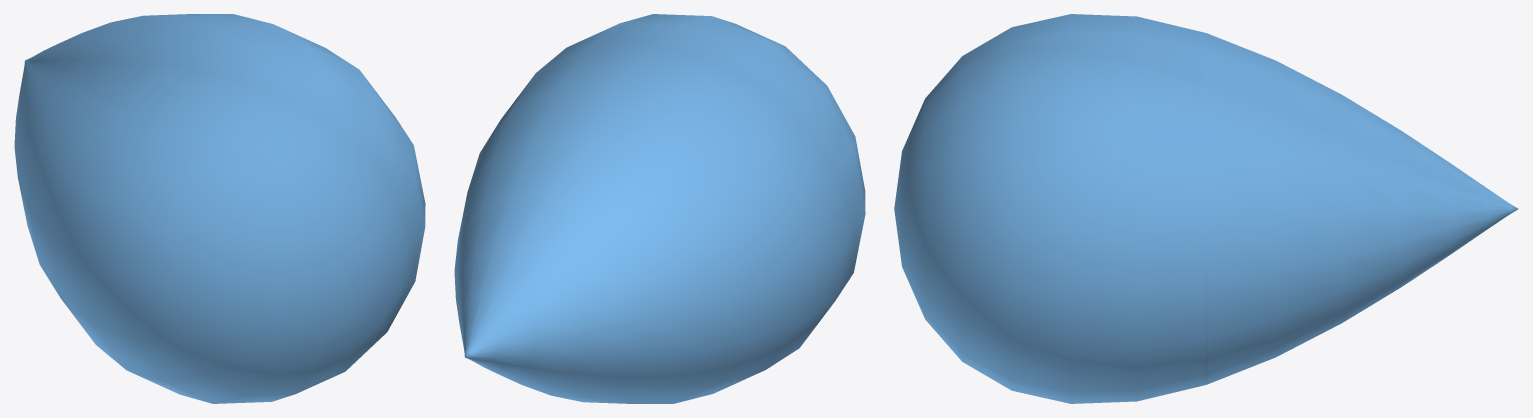
File: SM_WaterDroplet.fbx
3 views of the same model, side by side, from view 1: azimuth 30°, elevation 25°; view 2: azimuth 150°, elevation 25°; view 3: azimuth 270°, elevation 25° (orthographic). The views are drawn at different scales.
Parts seen in each view (by area): view 1: SM_WaterDroplet; view 2: SM_WaterDroplet; view 3: SM_WaterDroplet.
Part boxes in pixels (x1,y1,x2,y2): SM_WaterDroplet: (14,14,425,403); SM_WaterDroplet: (454,14,865,403); SM_WaterDroplet: (894,14,1518,403).
Bounding box in the file's own units: 0.625 × 0.625 × 1.
